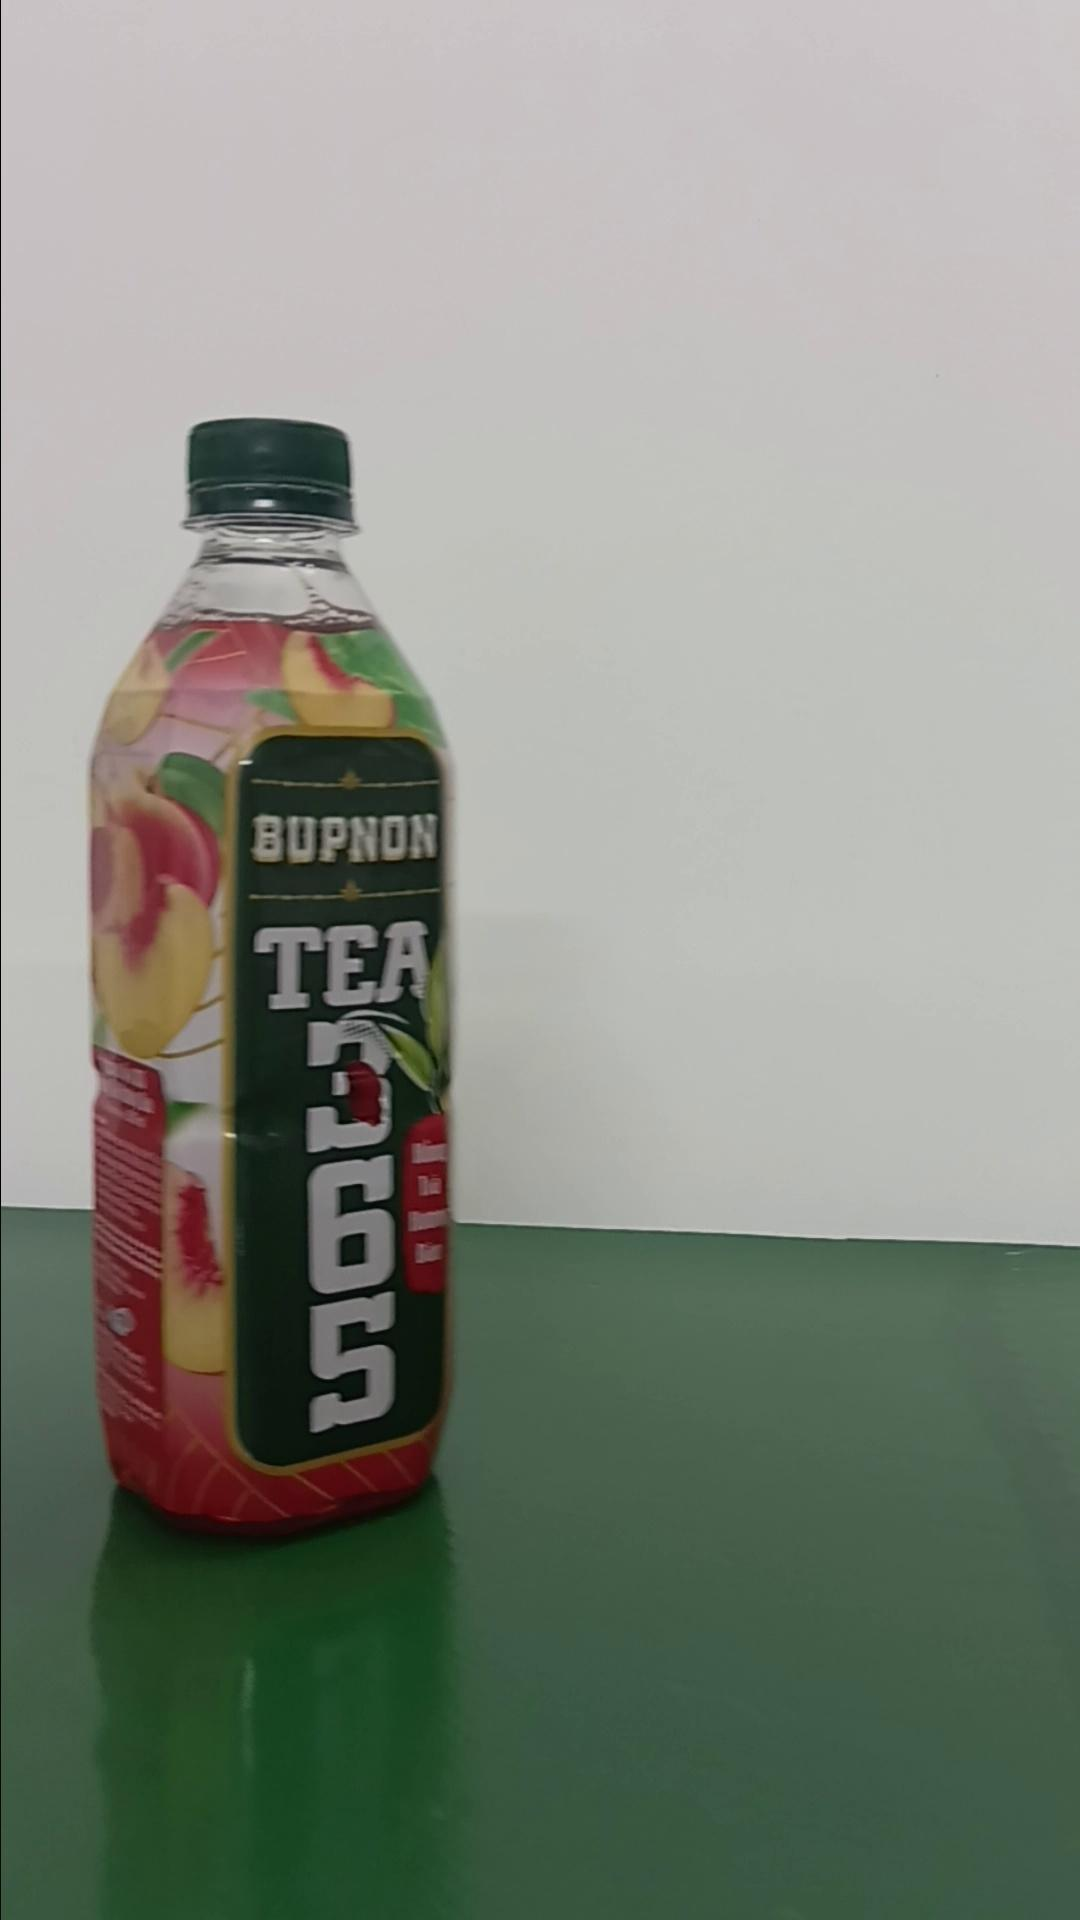loi rach va lap chai: (87, 409, 462, 1555)
